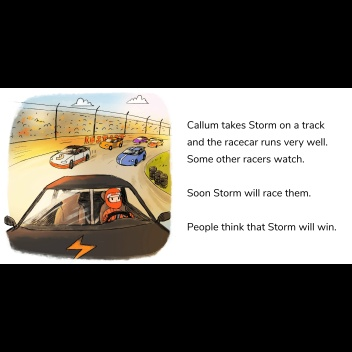latin: (185, 134, 330, 150), (185, 218, 339, 233), (185, 183, 312, 200), (184, 116, 326, 131), (185, 151, 308, 168)
